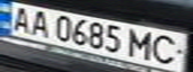0: (48, 14, 72, 43)
5: (103, 22, 127, 55)
6: (69, 17, 90, 46)
8: (84, 20, 106, 51)
A: (6, 4, 36, 34), (27, 8, 54, 38)
C: (148, 32, 187, 65)
M: (127, 27, 157, 60)
